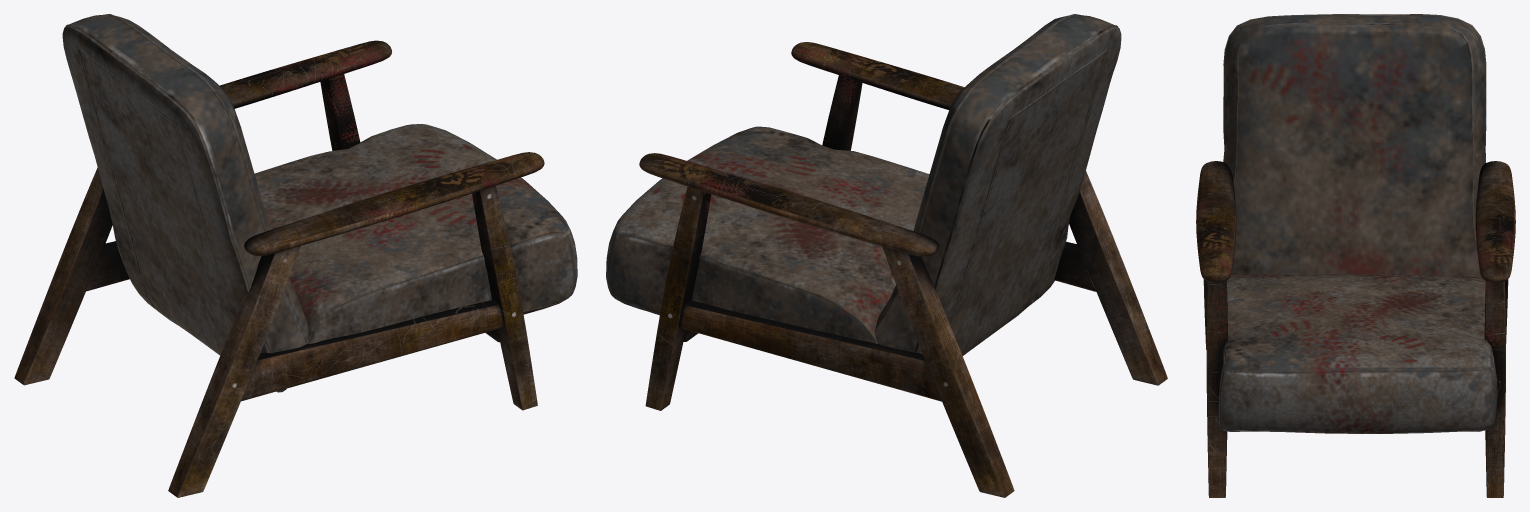
The model's file is post_apocalyptic_bloody_chair.glb.
3 views of the same model, side by side, from view 1: azimuth 30°, elevation 25°; view 2: azimuth 150°, elevation 25°; view 3: azimuth 270°, elevation 25° (orthographic). The views are drawn at different scales.
Visible parts, largest first — view 1: back_cushion, seat_cusion, back_right__leg, right_support, right_arm, back_right__leg.001, front_right_leg, right_arm.001, front_right_leg.001, right_support.001; view 2: back_cushion, seat_cusion, back_right__leg.001, right_support.001, right_arm.001, back_right__leg, front_right_leg.001, right_arm, front_right_leg, right_support; view 3: back_cushion, seat_cusion, right_arm.001, right_arm, front_right_leg, front_right_leg.001.
Part boxes in pixels (x1,y1,x2,y2): back_cushion: [62, 14, 308, 392]; seat_cusion: [254, 124, 577, 343]; back_right__leg: [168, 246, 300, 497]; right_support: [241, 300, 504, 401]; right_arm: [244, 152, 544, 256]; back_right__leg.001: [14, 167, 112, 385]; front_right_leg: [472, 186, 537, 410]; right_arm.001: [220, 40, 391, 108]; front_right_leg.001: [320, 74, 360, 150]; right_support.001: [86, 241, 129, 291]; back_cushion: [874, 14, 1121, 355]; seat_cusion: [606, 126, 929, 343]; back_right__leg.001: [882, 246, 1014, 497]; right_support.001: [679, 300, 941, 401]; right_arm.001: [639, 153, 938, 256]; back_right__leg: [1069, 171, 1167, 385]; front_right_leg.001: [645, 187, 711, 410]; right_arm: [791, 42, 964, 109]; front_right_leg: [822, 75, 862, 150]; right_support: [1054, 241, 1096, 291]; back_cushion: [1223, 14, 1486, 277]; seat_cusion: [1218, 274, 1497, 433]; right_arm.001: [1475, 161, 1515, 282]; right_arm: [1196, 161, 1236, 282]; front_right_leg: [1206, 280, 1227, 497]; front_right_leg.001: [1484, 281, 1505, 497].
Bounding box in the file's own units: 133 × 112 × 94.27.
Materials: 2 (2 with a texture image).
